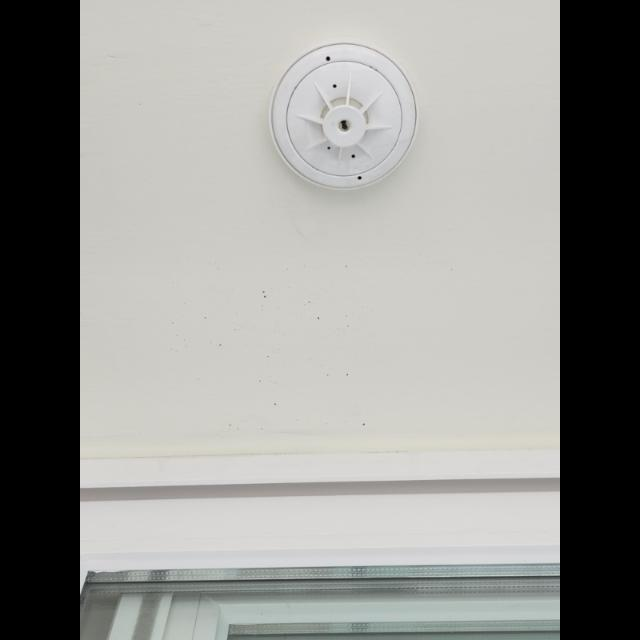Smoke-Detector: (269, 44, 419, 194)
